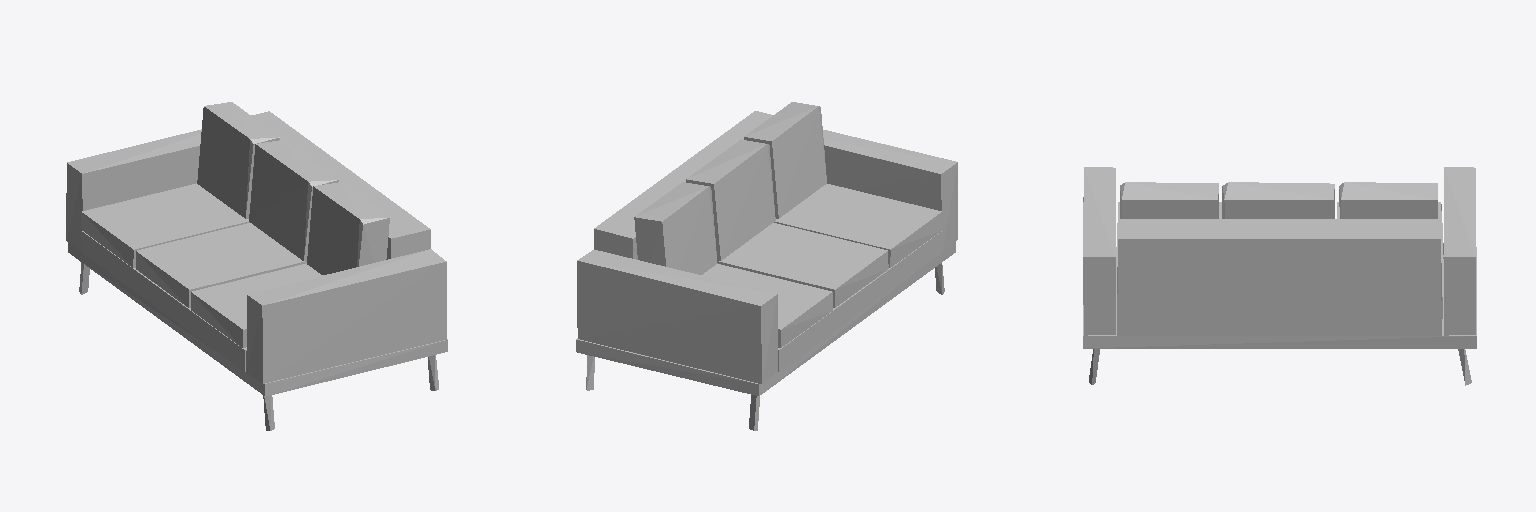
File: sofa1.obj
The picture shows the model from 3 angles: view 1: azimuth 30°, elevation 25°; view 2: azimuth 150°, elevation 25°; view 3: azimuth 270°, elevation 25°; orthographic projection.
Parts seen in each view (by area): view 1: Cylinder.008; view 2: Cylinder.008; view 3: Cylinder.008.
Part boxes in pixels (bbox=[...]): Cylinder.008: bbox=[66, 102, 447, 430]; Cylinder.008: bbox=[576, 102, 957, 430]; Cylinder.008: bbox=[1083, 167, 1476, 385].
Bounding box in the file's own units: 7.68 × 6.79 × 13.95.